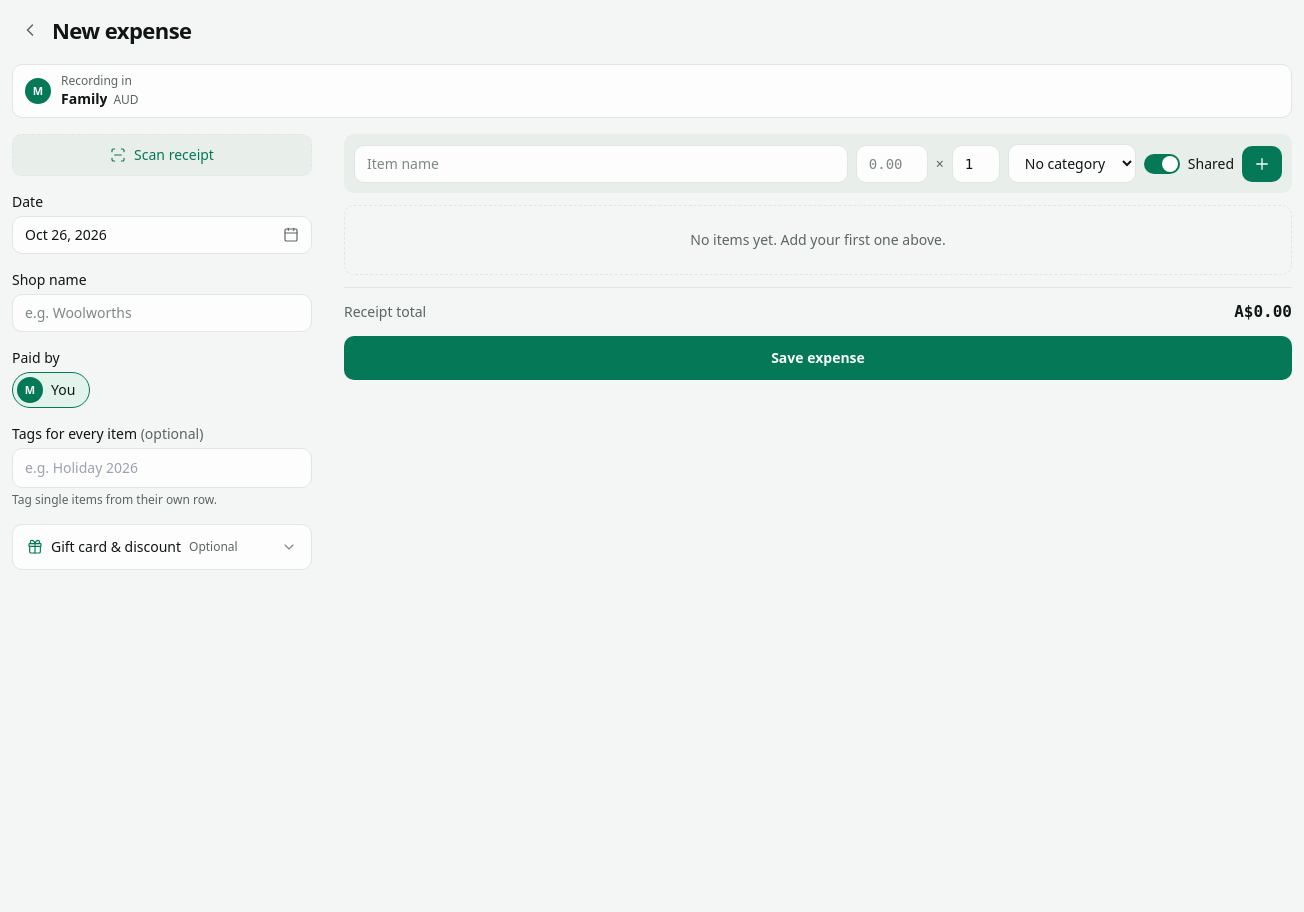
Scenario: ExpenseEditor (hybrid) › expands a row to reveal the full editor when clicked
The image size is (1304, 912).
In the dropdown with placeholder "Item name": (601, 164) [354, 144, 848, 182], type "Cherry"
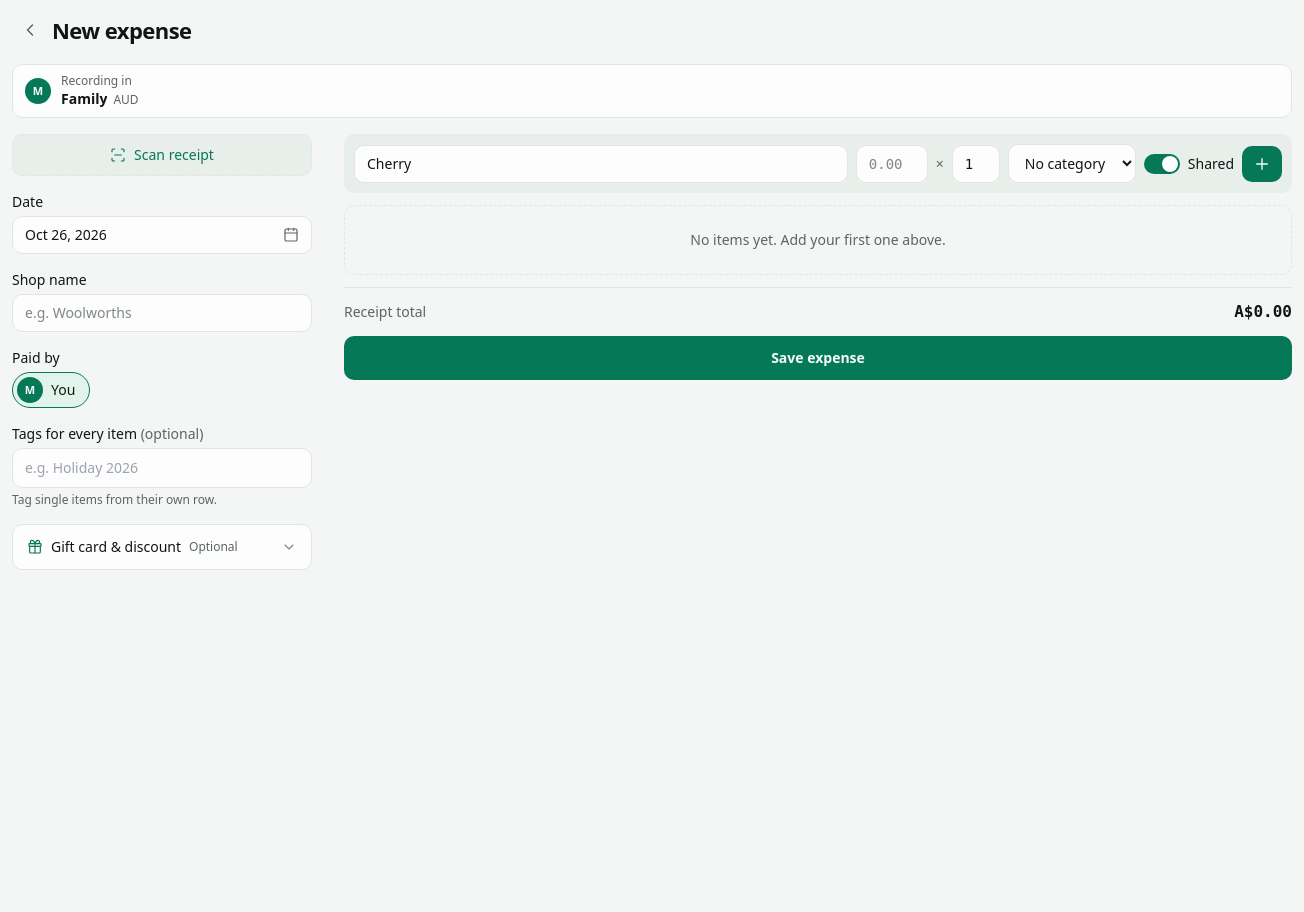
In the field named "unit price": (892, 164) [856, 144, 928, 182], type "3.00"
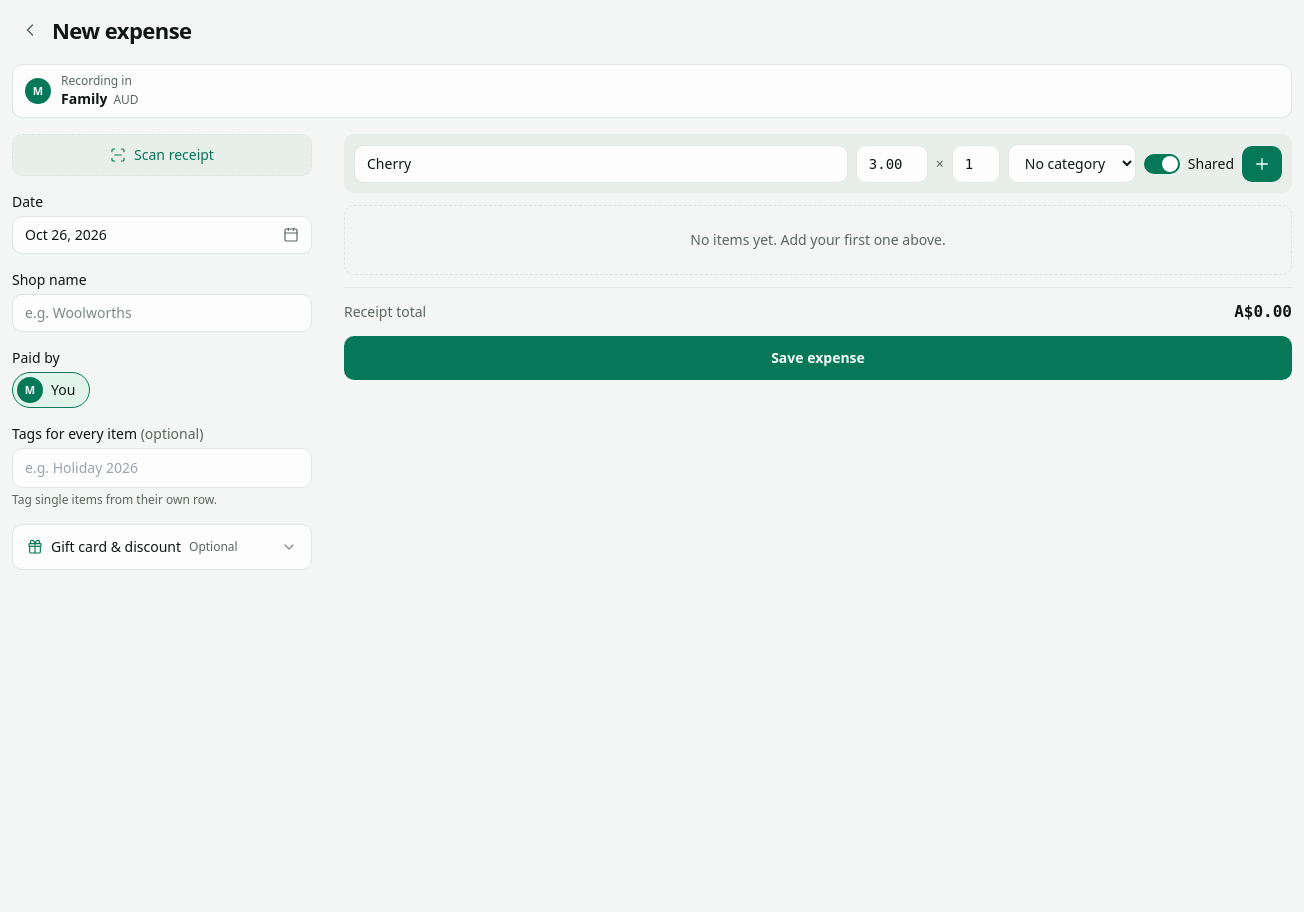
Click the button named "add item": (1262, 164) [1242, 146, 1282, 182]
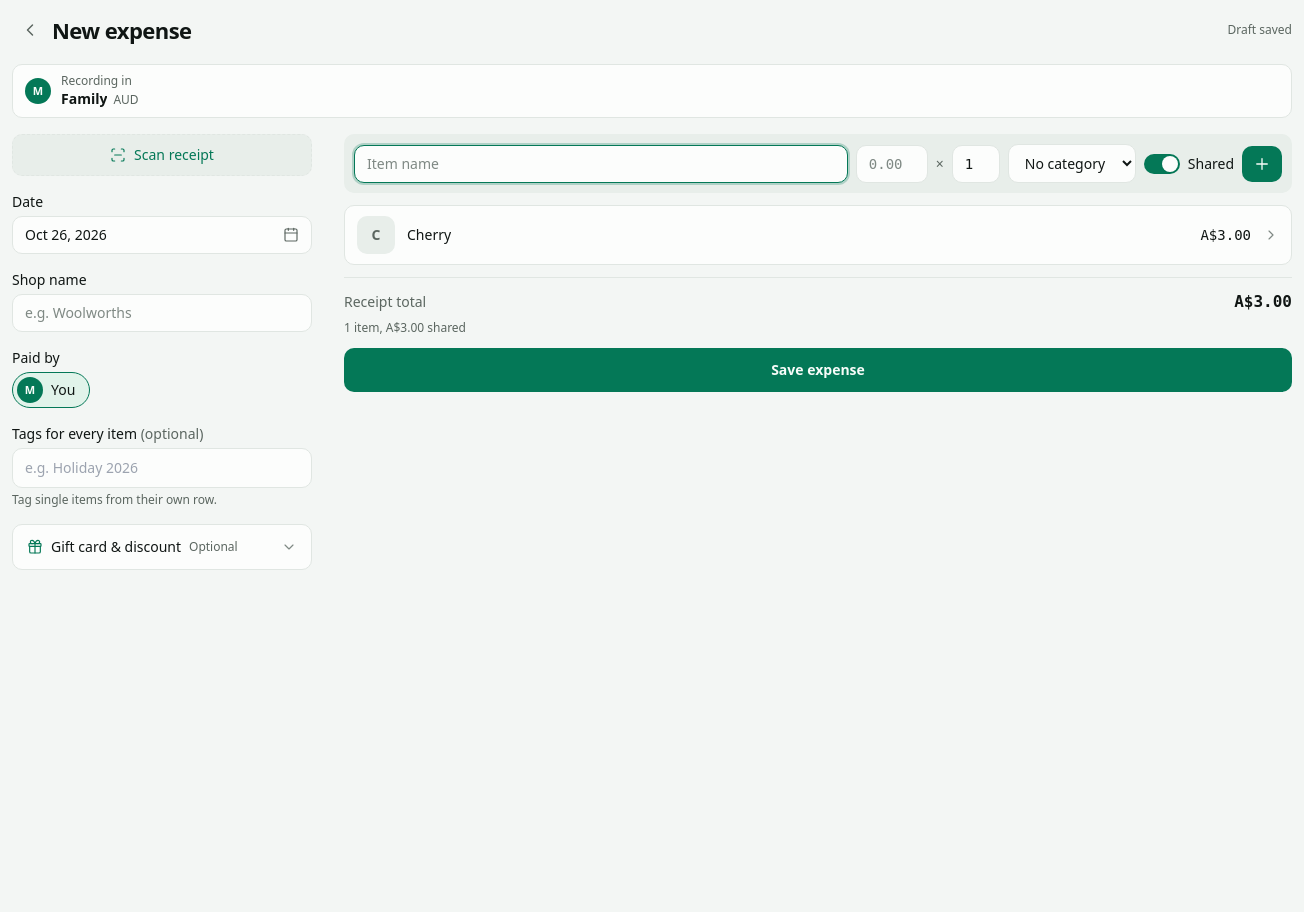
Click the button "C Cherry A$3.00": (376, 235) [345, 206, 1291, 264]
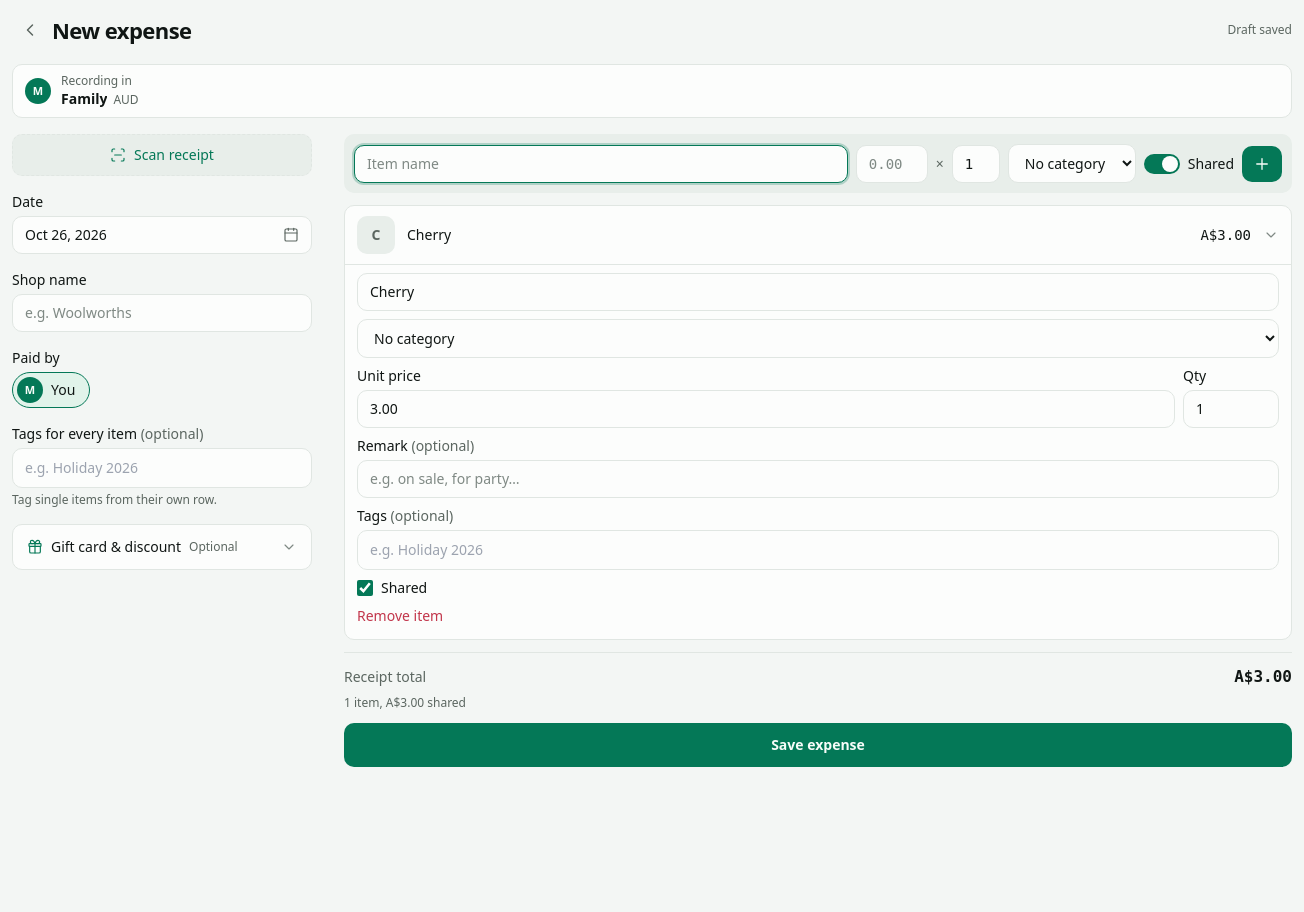
Expected: the field with placeholder "e.g. on sale, for party…" is shown, [357, 460, 1279, 498]
Expected: the button "Remove item" is shown, [357, 606, 443, 626]
